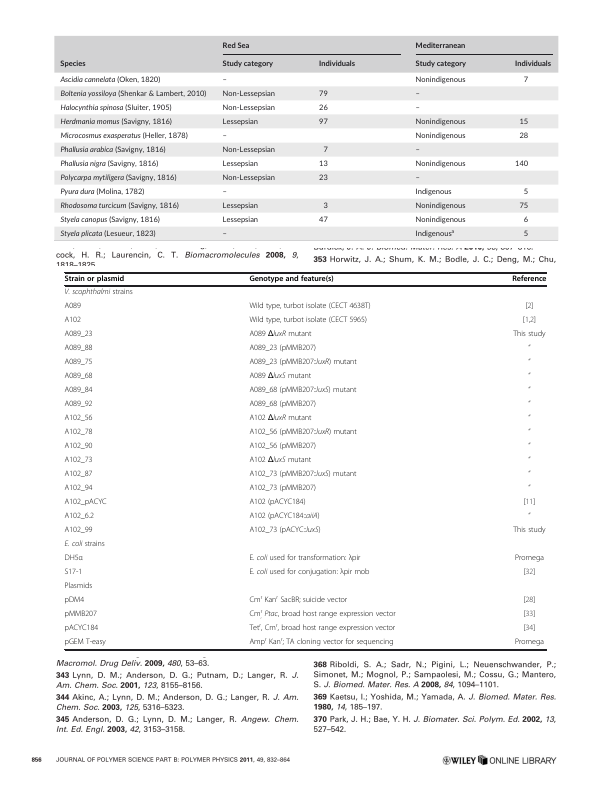borderless: (63, 271, 546, 649), (52, 35, 559, 242)
cell: (248, 608, 396, 620), (248, 622, 396, 634), (59, 88, 206, 100), (248, 636, 394, 648), (59, 130, 188, 142), (59, 200, 179, 212), (59, 172, 177, 184), (59, 102, 172, 114), (59, 116, 172, 128), (59, 144, 166, 156), (248, 302, 371, 312), (248, 568, 370, 578), (59, 74, 160, 86), (59, 214, 160, 226), (248, 316, 368, 326), (248, 594, 348, 606), (59, 158, 158, 170), (59, 228, 156, 240), (248, 554, 361, 564), (248, 358, 358, 368), (248, 428, 358, 438), (248, 386, 357, 396), (248, 470, 357, 480), (59, 186, 144, 198), (248, 275, 335, 284), (248, 526, 321, 536), (248, 512, 320, 522), (64, 288, 134, 298), (248, 344, 317, 354), (248, 400, 317, 410), (248, 442, 317, 452), (248, 484, 317, 494), (414, 39, 465, 52), (221, 88, 275, 100), (221, 102, 275, 114), (221, 144, 275, 156), (221, 172, 275, 184), (248, 330, 312, 340), (248, 372, 312, 382), (248, 414, 312, 424), (248, 456, 312, 466), (221, 58, 273, 70), (414, 58, 466, 70), (414, 74, 466, 86), (414, 116, 466, 128), (414, 130, 466, 142), (414, 158, 466, 170), (414, 200, 466, 212), (414, 214, 466, 226), (248, 498, 306, 508), (64, 275, 125, 284), (414, 227, 454, 240), (414, 186, 452, 198), (221, 116, 258, 128), (221, 158, 258, 170), (221, 200, 258, 212), (221, 214, 258, 226), (64, 498, 108, 508), (64, 638, 107, 648), (64, 540, 106, 550), (221, 39, 250, 52), (64, 624, 99, 634), (512, 330, 546, 340), (512, 526, 546, 536), (64, 610, 98, 620), (59, 58, 86, 70), (511, 275, 547, 284), (64, 512, 95, 522), (514, 554, 545, 564), (514, 638, 545, 648), (317, 60, 355, 68), (513, 60, 551, 68), (64, 330, 93, 340), (64, 344, 93, 354), (64, 358, 93, 368), (64, 372, 93, 382), (64, 386, 93, 396), (64, 400, 93, 410), (64, 414, 93, 424), (64, 428, 93, 438), (64, 442, 93, 452), (64, 456, 93, 466), (64, 470, 93, 480), (64, 484, 93, 494), (64, 526, 93, 536), (64, 582, 93, 592), (64, 596, 85, 606), (64, 554, 84, 564), (64, 568, 83, 578), (64, 302, 82, 312), (64, 316, 82, 326), (522, 316, 537, 326), (522, 498, 536, 508), (522, 568, 536, 578), (522, 596, 536, 606), (522, 610, 536, 620), (522, 624, 536, 634), (317, 88, 328, 100), (317, 102, 328, 114), (317, 116, 328, 128), (513, 161, 528, 168), (524, 302, 534, 312), (317, 161, 328, 168), (317, 175, 328, 182), (317, 217, 328, 224), (522, 214, 528, 226), (518, 119, 528, 126), (518, 133, 528, 140), (518, 203, 528, 210), (221, 77, 227, 84), (522, 77, 528, 84), (414, 91, 420, 98), (414, 105, 420, 112), (221, 133, 227, 140), (322, 147, 328, 154), (414, 147, 420, 154), (414, 175, 420, 182), (221, 189, 227, 196), (522, 189, 528, 196), (322, 203, 328, 210), (221, 231, 227, 238), (522, 231, 528, 238), (527, 344, 531, 352), (527, 358, 531, 366), (527, 372, 531, 380), (527, 386, 531, 394), (527, 400, 531, 408), (527, 414, 531, 422), (527, 428, 531, 436), (527, 442, 531, 450), (527, 456, 531, 464), (527, 470, 531, 478), (527, 484, 531, 492), (527, 512, 531, 520)
